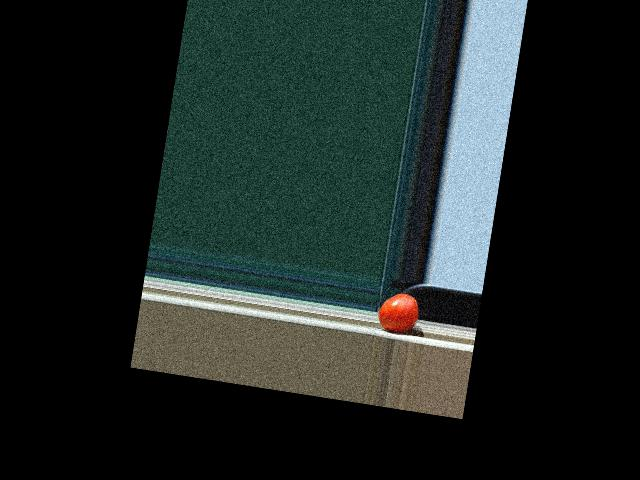tomato: (376, 290, 421, 334)
